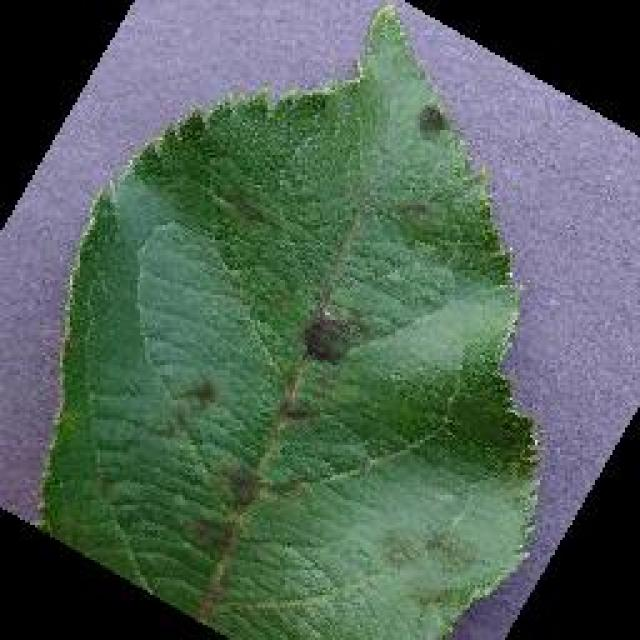apple scab disease: (35, 0, 545, 638)
